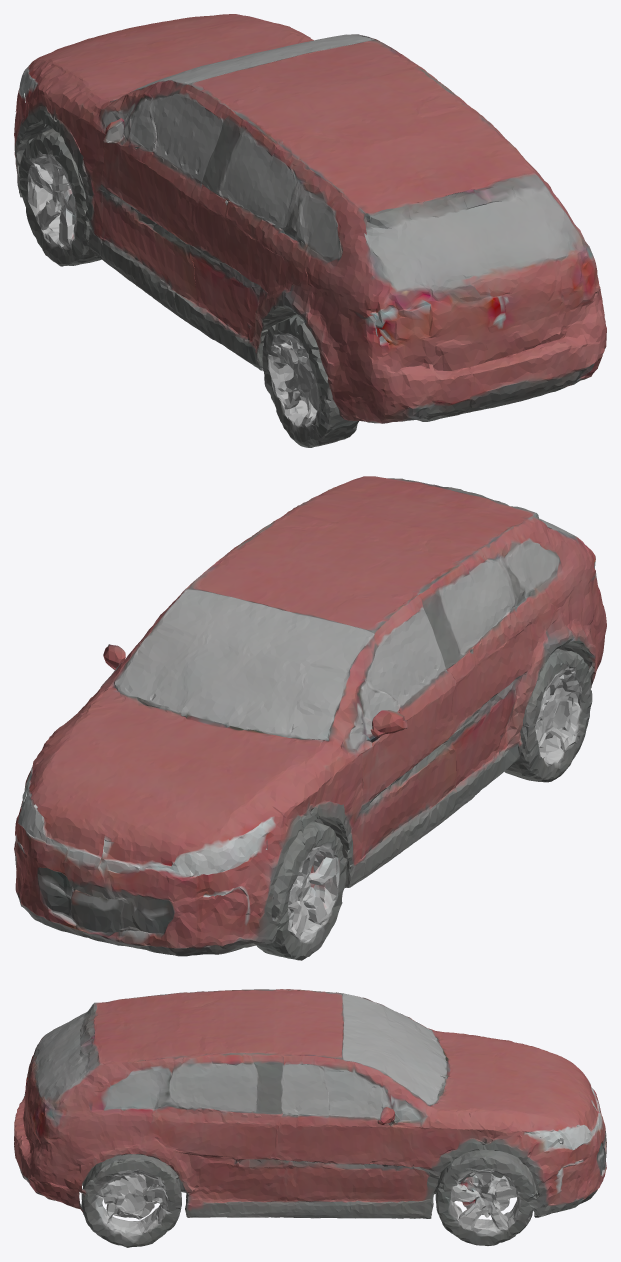
3 renders of one model, top to bottom at view 1: azimuth 30°, elevation 25°; view 2: azimuth 150°, elevation 25°; view 3: azimuth 270°, elevation 25°, orthographic. The views are drawn at different scales.
Parts seen in each view (by area): view 1: defaultobject; view 2: defaultobject; view 3: defaultobject.
Boxes of the visible parts, <box> form: defaultobject: <box>14,14,606,447</box>; defaultobject: <box>14,476,606,960</box>; defaultobject: <box>14,989,606,1247</box>.
Bounding box in the file's own units: 0.4037 × 0.321 × 0.9482.
